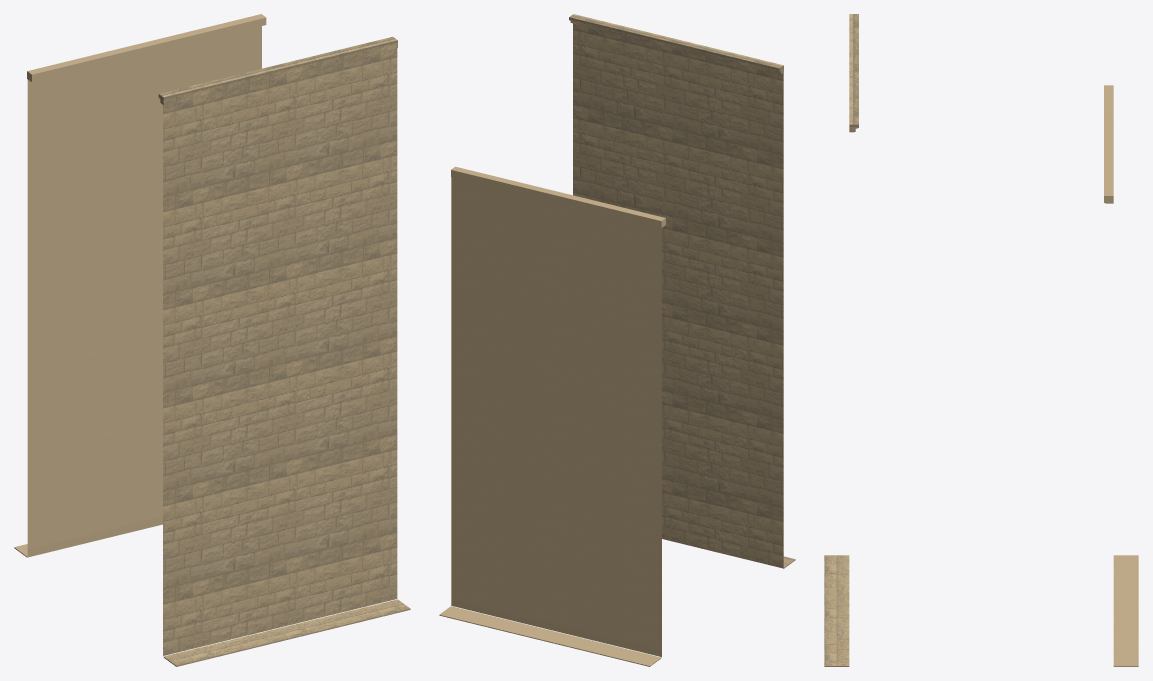
The model's file is fountain-receivers-link-west-mid.glb.
The picture shows the model from 3 angles, left to right: view 1: azimuth 30°, elevation 25°; view 2: azimuth 150°, elevation 25°; view 3: azimuth 270°, elevation 25°; orthographic projection. The views are drawn at different scales.
Parts seen in each view (by area): view 1: bz06_dressed_sandstone.004-cast, bz06_sand_plaster.004-cast; view 2: bz06_sand_plaster.004-cast, bz06_dressed_sandstone.004-cast; view 3: bz06_sand_plaster.004-cast, bz06_dressed_sandstone.004-cast.
Part boxes in pixels (x1=…): bz06_dressed_sandstone.004-cast: x1=158, y1=36, x2=410, y2=666; bz06_sand_plaster.004-cast: x1=14, y1=14, x2=266, y2=557; bz06_sand_plaster.004-cast: x1=439, y1=166, x2=665, y2=666; bz06_dressed_sandstone.004-cast: x1=569, y1=14, x2=795, y2=568; bz06_sand_plaster.004-cast: x1=1104, y1=85, x2=1138, y2=666; bz06_dressed_sandstone.004-cast: x1=824, y1=14, x2=858, y2=666.
Size of the model in its own units: 5 by 11.42 by 6.
Materials: 2 (2 with a texture image).
